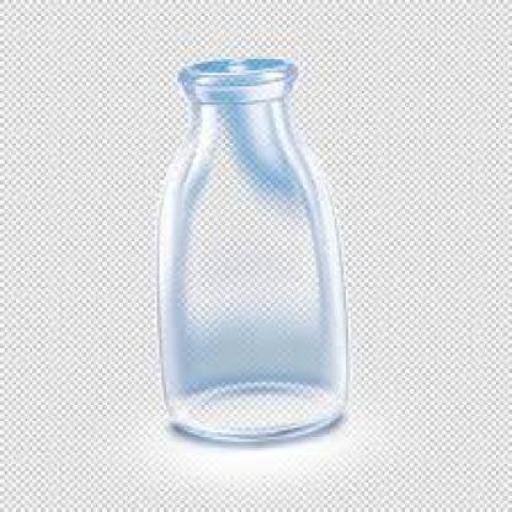glass: (164, 54, 348, 444)
